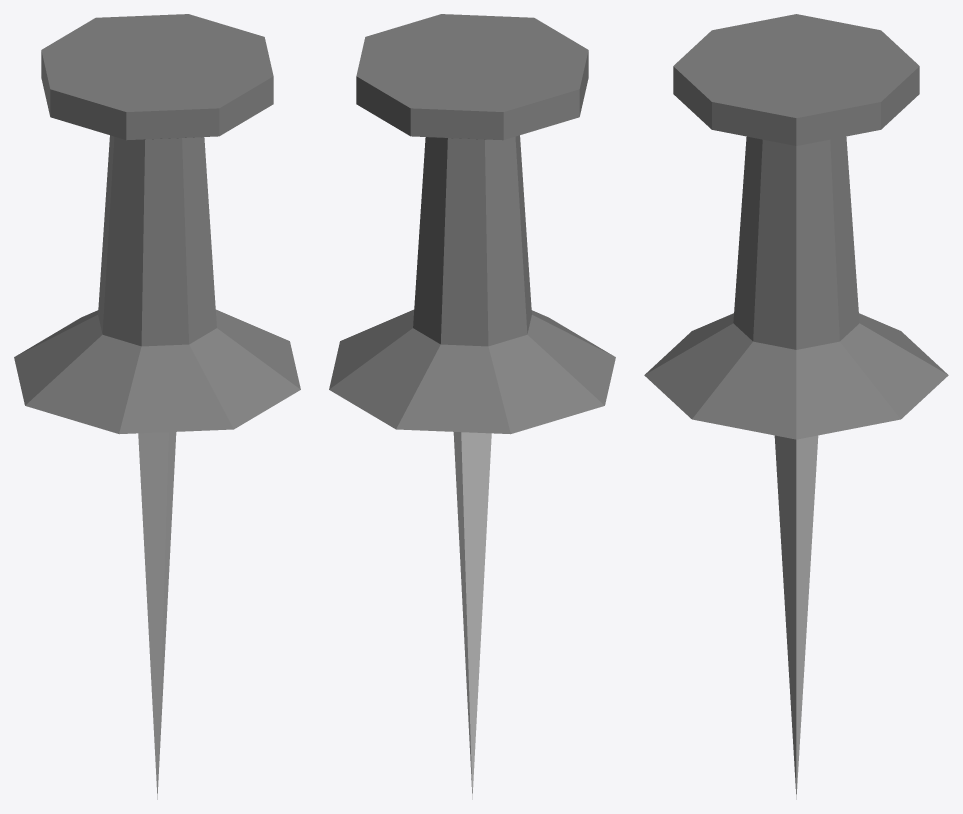
The model's file is Pin00.fbx.
3 renders of one model, left to right at view 1: azimuth 30°, elevation 25°; view 2: azimuth 150°, elevation 25°; view 3: azimuth 270°, elevation 25°, orthographic.
Visible parts, largest first — view 1: Pin; view 2: Pin; view 3: Pin.
Boxes of the visible parts, x1,y1,x2,y2 form: Pin: (14, 14, 300, 799); Pin: (329, 14, 615, 799); Pin: (644, 14, 948, 799).
Bounding box in the file's own units: 63.05 × 168 × 63.05.
